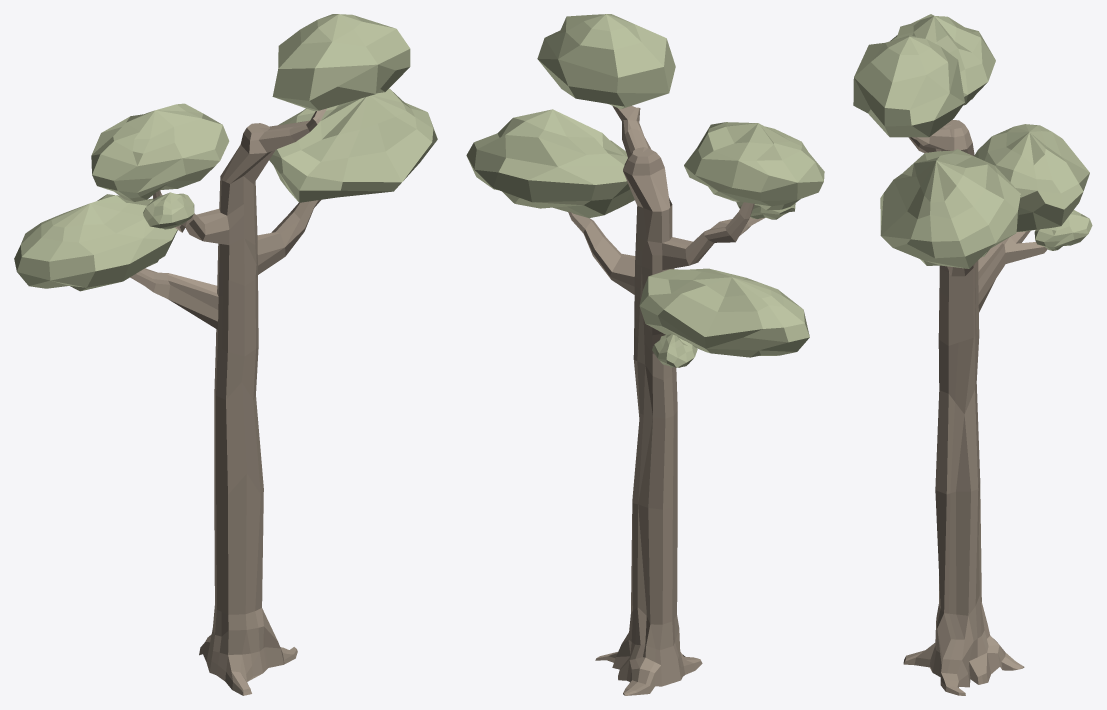
File: ER_Asset_Tree05.fbx
3 views of the same model, side by side, from view 1: azimuth 30°, elevation 25°; view 2: azimuth 150°, elevation 25°; view 3: azimuth 270°, elevation 25° (orthographic). The views are drawn at different scales.
Visible parts, largest first — view 1: polySurface4220; view 2: polySurface4220; view 3: polySurface4220.
Part boxes in pixels (box(x1,y1,x2,y2)): polySurface4220: box(14, 14, 437, 695); polySurface4220: box(466, 14, 824, 695); polySurface4220: box(853, 14, 1092, 695).
Size of the model in its own units: 4.66 by 7.58 by 2.44.
